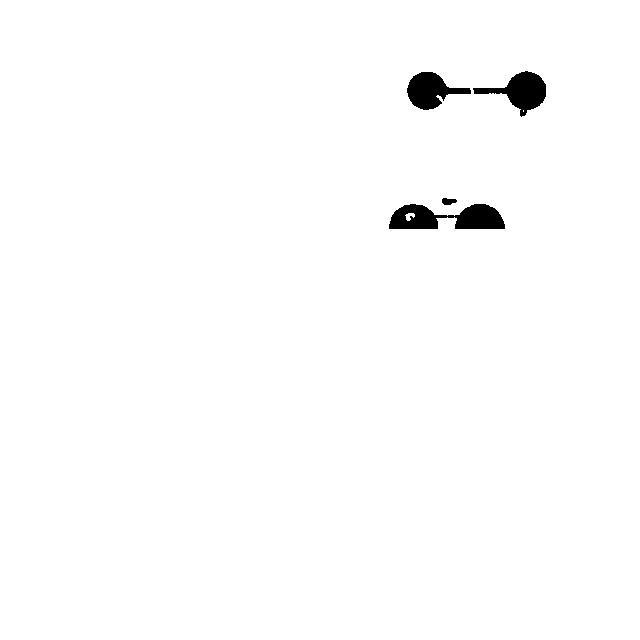copper: (432, 188, 466, 214)
mousebite: (426, 85, 454, 113)
open: (458, 71, 483, 106)
pin-hole: (395, 203, 424, 230)
short: (419, 205, 470, 227)
spur: (510, 92, 538, 126)
